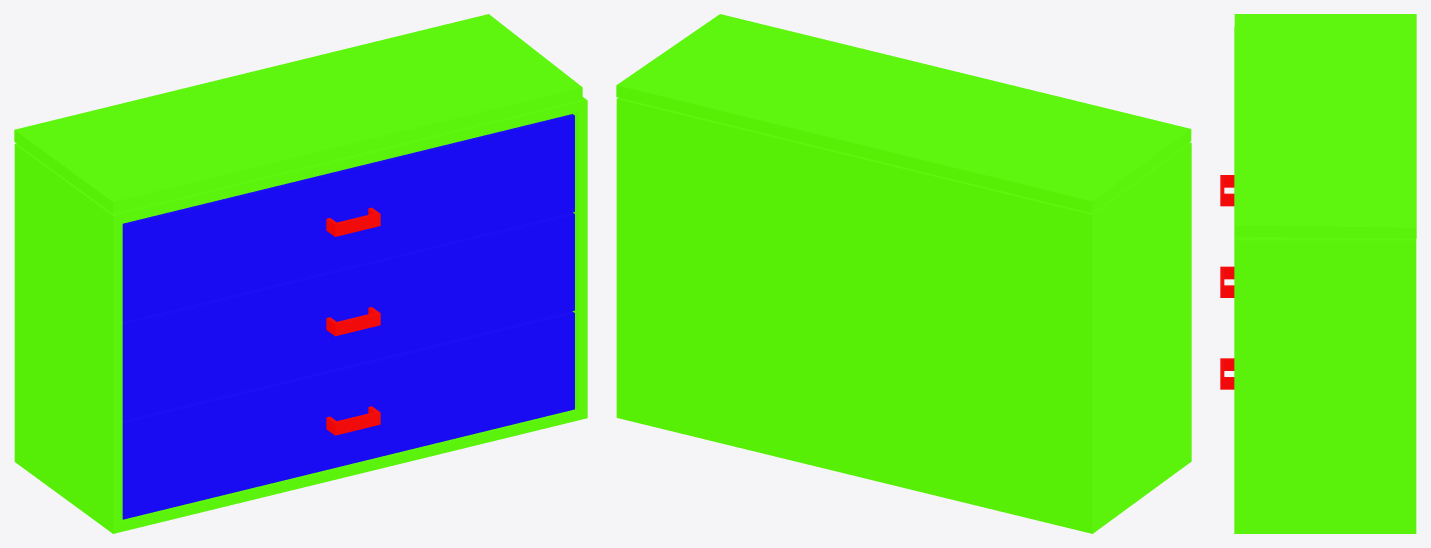
Rendered from Commode.fbx.
3 views of the same model, side by side, from view 1: azimuth 30°, elevation 25°; view 2: azimuth 150°, elevation 25°; view 3: azimuth 270°, elevation 25° (orthographic). The views are drawn at different scales.
Parts seen in each view (by area): view 1: Dresser; view 2: Dresser; view 3: Dresser.
Part boxes in pixels (x1=…): Dresser: x1=14, y1=14, x2=587, y2=533; Dresser: x1=616, y1=14, x2=1191, y2=533; Dresser: x1=1220, y1=14, x2=1416, y2=533.
Bounding box in the file's own units: 125 × 83.52 × 48.57.
